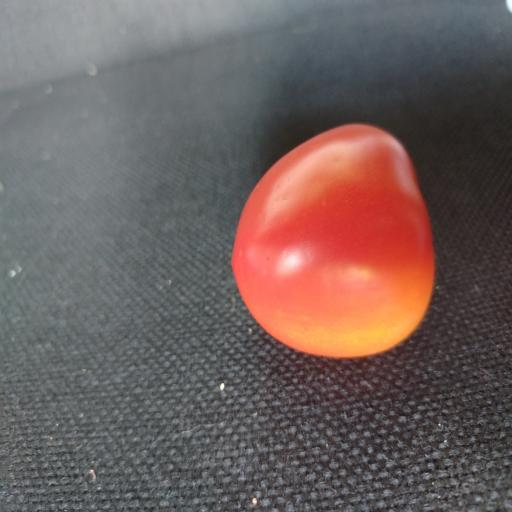ripe: (232, 124, 434, 357)
